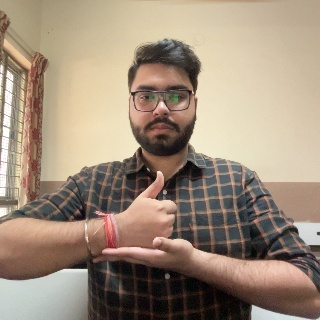Face: (127, 44, 200, 154)
Help: (98, 171, 199, 269)
